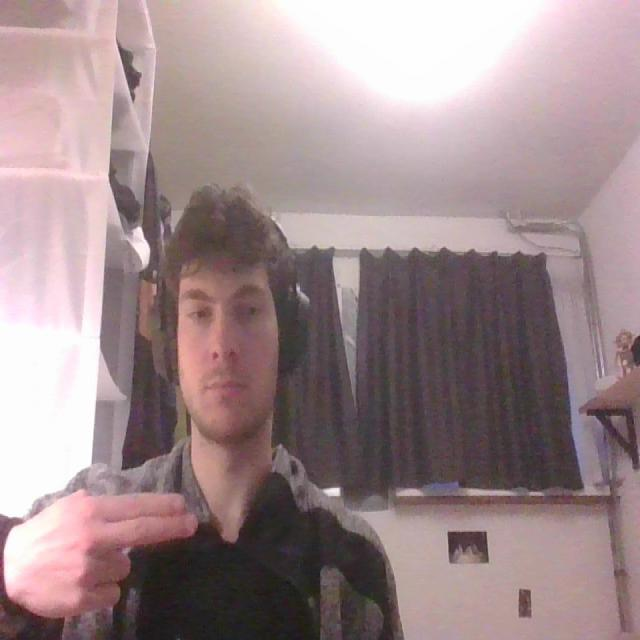right: (9, 487, 200, 616)
